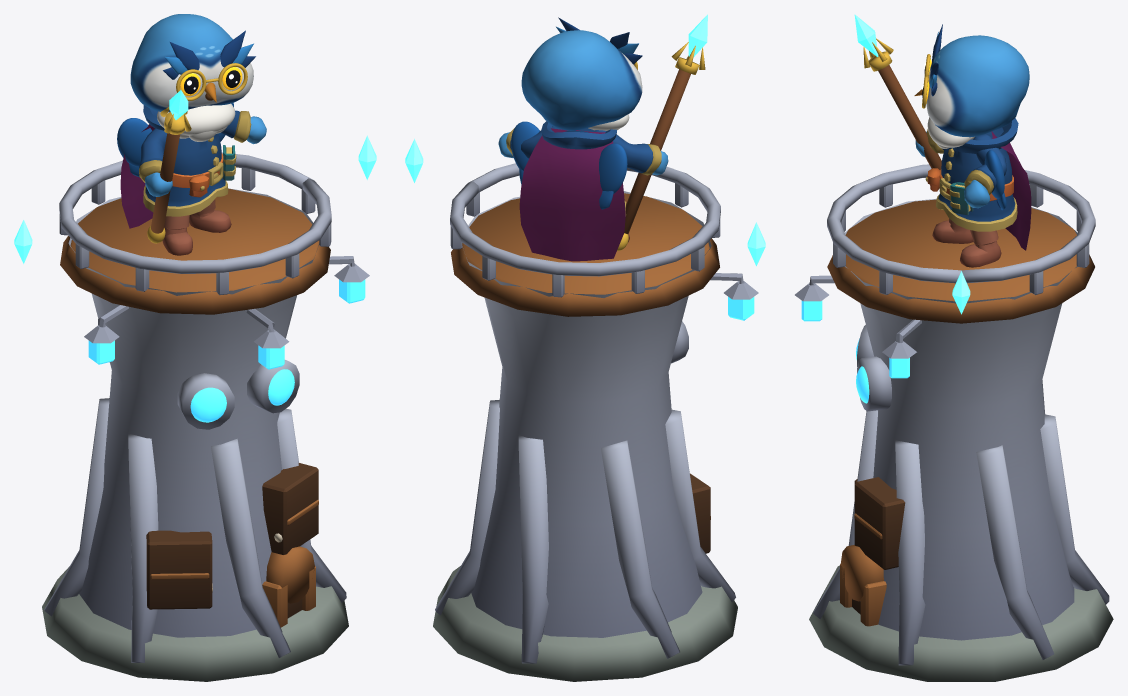
Rendered from tower_owl_t2.glb.
The picture shows the model from 3 angles, left to right: view 1: azimuth 30°, elevation 25°; view 2: azimuth 150°, elevation 25°; view 3: azimuth 270°, elevation 25°; orthographic projection.
Parts seen in each view (by area): view 1: CustomTowerBase_owl_t2, OwlV4Head, Mage_Body, Mage_ArmRight, Mage_Cape, OwlChestRuffMain, StaffShaft, WingShoulder, Mage_LegRight, Mage_ArmLeft, Mage_LegLeft; view 2: CustomTowerBase_owl_t2, Mage_Cape, OwlV4Head, StaffShaft, Mage_Body, Mage_ArmRight, WingShoulder, WingShoulder.001, Mage_ArmLeft; view 3: CustomTowerBase_owl_t2, OwlV4Head, Mage_Body, Mage_Cape, StaffShaft, Mage_ArmLeft, Mage_LegLeft, Mage_LegRight, OwlChestRuffMain, WingShoulder.001, Crystal3.
Part boxes in pixels (x1,y1,x2,y2): CustomTowerBase_owl_t2: [42, 152, 369, 681]; OwlV4Head: [130, 14, 253, 112]; Mage_Body: [143, 105, 236, 216]; Mage_ArmRight: [139, 128, 172, 196]; Mage_Cape: [120, 124, 154, 228]; OwlChestRuffMain: [157, 103, 235, 135]; StaffShaft: [151, 133, 180, 233]; WingShoulder: [117, 118, 151, 166]; Mage_LegRight: [162, 215, 192, 255]; Mage_ArmLeft: [221, 110, 266, 144]; Mage_LegLeft: [189, 199, 231, 232]; CustomTowerBase_owl_t2: [433, 163, 758, 681]; Mage_Cape: [519, 128, 625, 261]; OwlV4Head: [521, 30, 642, 130]; StaffShaft: [624, 69, 690, 234]; Mage_Body: [541, 121, 626, 216]; Mage_ArmRight: [594, 130, 668, 175]; WingShoulder: [599, 143, 627, 193]; WingShoulder.001: [511, 121, 539, 170]; Mage_ArmLeft: [498, 126, 561, 158]; CustomTowerBase_owl_t2: [795, 164, 1113, 681]; OwlV4Head: [926, 35, 1029, 137]; Mage_Body: [925, 118, 1018, 231]; Mage_Cape: [991, 131, 1031, 250]; StaffShaft: [878, 65, 941, 169]; Mage_ArmLeft: [964, 134, 1006, 208]; Mage_LegLeft: [960, 230, 1001, 267]; Mage_LegRight: [932, 218, 973, 243]; OwlChestRuffMain: [927, 117, 974, 147]; WingShoulder.001: [984, 150, 1004, 198]; Crystal3: [854, 14, 878, 56].
Bounding box in the file's own units: 1.35 × 2.1 × 1.05.
21 materials, 3 textured.
